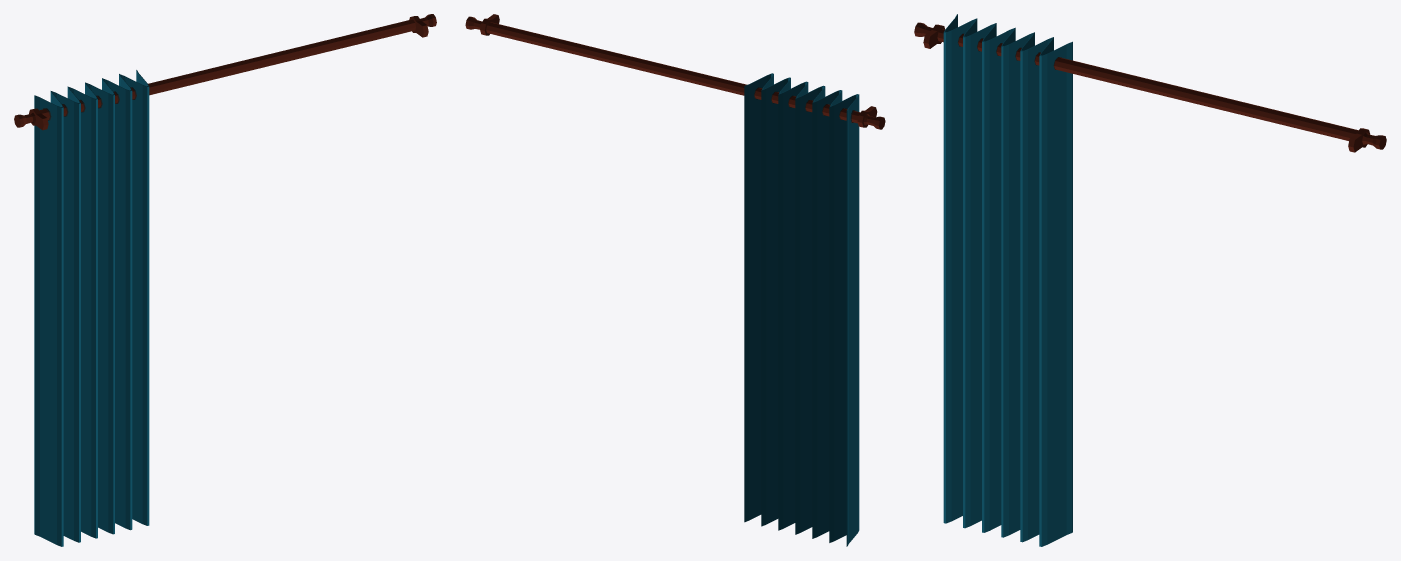
Rendered from Curtain 1.fbx.
3 renders of one model, left to right at view 1: azimuth 30°, elevation 25°; view 2: azimuth 150°, elevation 25°; view 3: azimuth 330°, elevation 25°, orthographic. The views are drawn at different scales.
Parts seen in each view (by area): view 1: Node 0; view 2: Node 0; view 3: Node 0.
Boxes of the visible parts, <box> form: Node 0: <box>14,14,436,546</box>; Node 0: <box>465,14,885,546</box>; Node 0: <box>914,14,1386,546</box>.
Size of the model in its own units: 0.3694 by 4.3 by 4.27.
